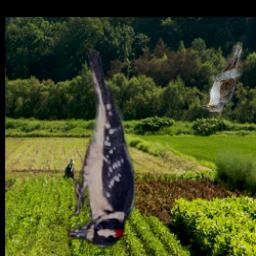Cuckoo: (204, 43, 244, 113)
Woodpecker: (69, 52, 137, 250)
